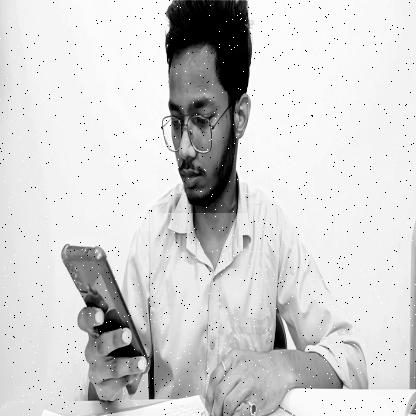Distracted: (158, 1, 248, 213)
